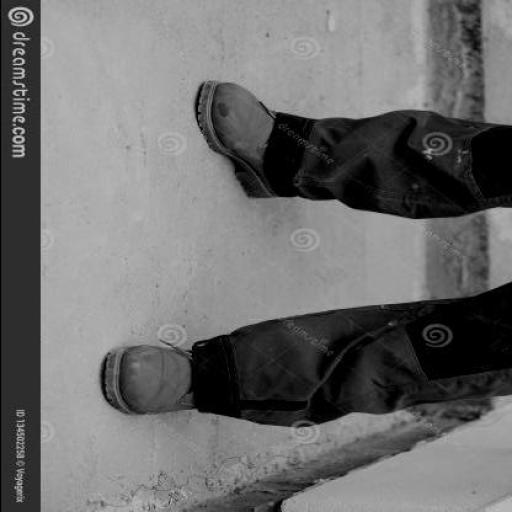safety_shoe: (197, 83, 290, 201), (99, 348, 203, 416)
